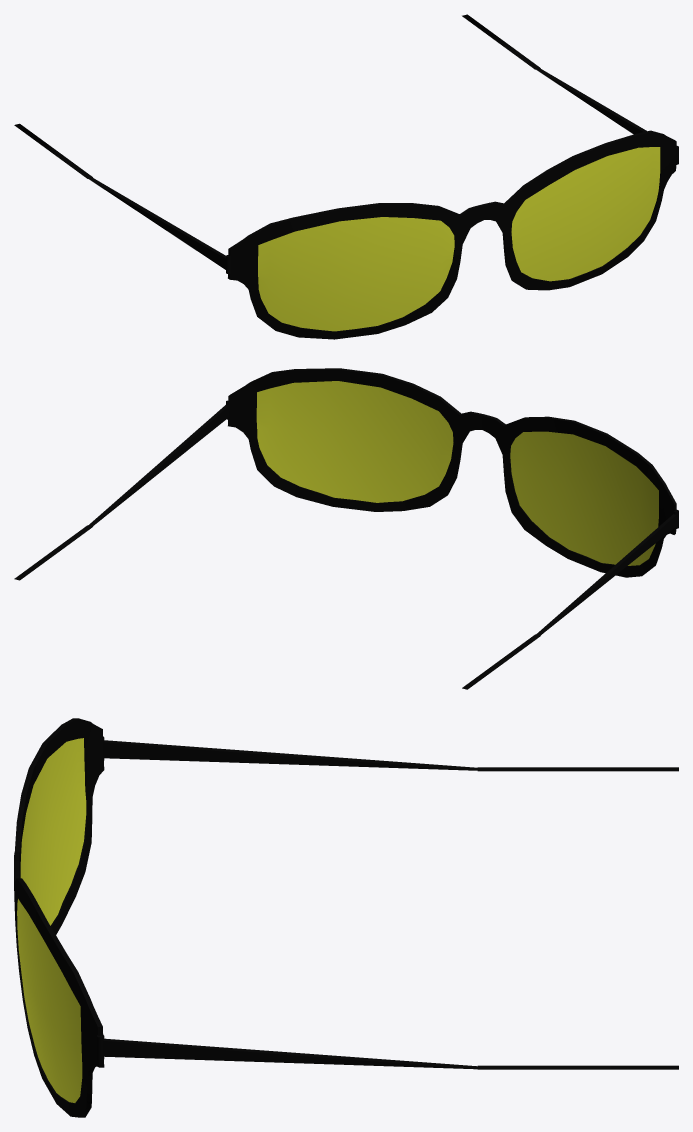
File: round.glb
The picture shows the model from 3 angles, top to bottom: view 1: azimuth 30°, elevation 25°; view 2: azimuth 150°, elevation 25°; view 3: azimuth 270°, elevation 25°; orthographic projection. The views are drawn at different scales.
Parts seen in each view (by area): view 1: glasses8.001; view 2: glasses8.001; view 3: glasses8.001.
Part boxes in pixels (x1,y1,x2,y2): glasses8.001: [14, 14, 678, 339]; glasses8.001: [14, 368, 678, 689]; glasses8.001: [14, 718, 678, 1117].
Size of the model in its own units: 1.99 by 0.5597 by 1.85.
